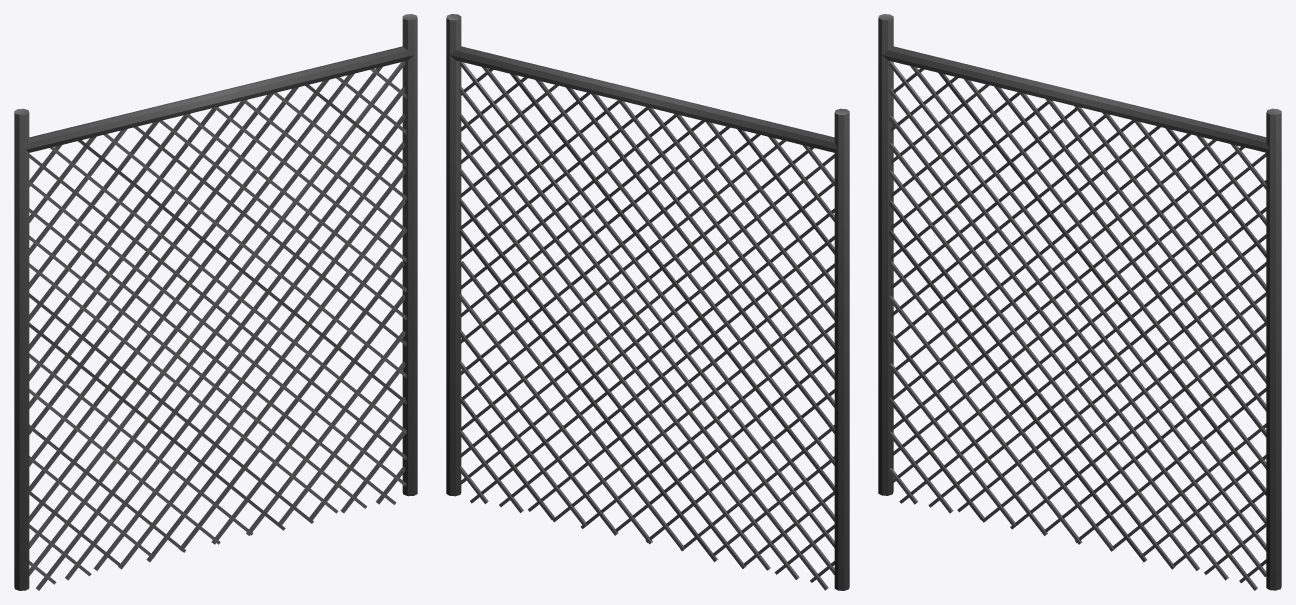
The model's file is fence.fbx.
3 views of the same model, side by side, from view 1: azimuth 30°, elevation 25°; view 2: azimuth 150°, elevation 25°; view 3: azimuth 330°, elevation 25° (orthographic).
Parts seen in each view (by area): view 1: Side Poles, Top Pole, Chains.001, Cube.038, Cube.037, Cube.050, Cube.036, Cube.049, Cube.035, Cube.048, Cube.034, Cube.047 (+32 smaller); view 2: Side Poles, Top Pole, Cube.038, Chains.001, Cube.037, Cube.050, Cube.036, Cube.049, Cube.035, Cube.048, Cube.034, Cube.047 (+31 smaller); view 3: Side Poles, Top Pole, Chains, Cube.013, Cube.014, Cube.001, Cube.015, Cube.002, Cube.016, Cube.003, Cube.017, Cube.004 (+32 smaller).
Part boxes in pixels (x1,y1,x2,y2): Side Poles: [14, 14, 417, 590]; Top Pole: [26, 46, 413, 152]; Chains.001: [29, 61, 405, 548]; Cube.038: [29, 87, 405, 575]; Cube.037: [36, 114, 405, 590]; Cube.050: [29, 66, 382, 522]; Cube.036: [65, 142, 405, 580]; Cube.049: [29, 73, 354, 491]; Cube.035: [93, 169, 405, 570]; Cube.048: [29, 79, 329, 466]; Cube.034: [118, 199, 405, 569]; Cube.047: [29, 87, 298, 434]; Side Poles: [446, 14, 849, 590]; Top Pole: [450, 46, 837, 152]; Cube.038: [459, 86, 834, 574]; Chains.001: [459, 61, 834, 547]; Cube.037: [459, 113, 828, 590]; Cube.050: [482, 67, 834, 521]; Cube.036: [459, 142, 799, 579]; Cube.049: [510, 73, 834, 492]; Cube.035: [459, 168, 770, 570]; Cube.048: [535, 80, 834, 465]; Cube.034: [459, 198, 745, 568]; Cube.047: [566, 87, 834, 433]; Side Poles: [878, 14, 1281, 590]; Top Pole: [882, 46, 1269, 152]; Chains: [889, 61, 1266, 551]; Cube.013: [889, 88, 1266, 576]; Cube.014: [889, 115, 1257, 590]; Cube.001: [910, 66, 1266, 525]; Cube.015: [889, 143, 1228, 580]; Cube.002: [938, 72, 1266, 495]; Cube.016: [889, 170, 1199, 570]; Cube.003: [964, 79, 1266, 469]; Cube.017: [889, 200, 1175, 569]; Cube.004: [994, 86, 1266, 437].
Bounding box in the file's own units: 207 × 237 × 7.
